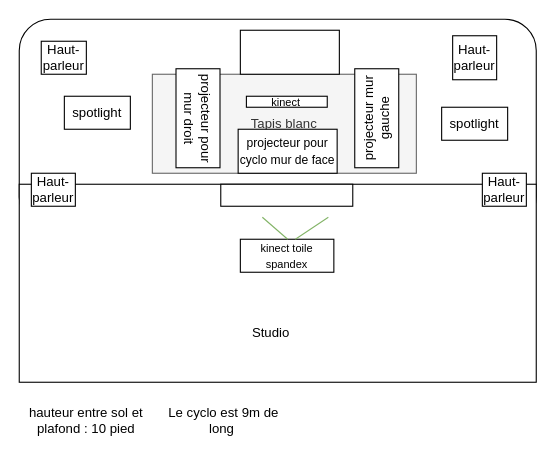
Some shapes in this 556 by 457 pixel diagram are drawn without their labels. The shapes that lost their labels are listed below. From the top down, each one's centre as x and y in pixels, then its label:
At (x=289, y=51): "projecteur pour toile spandex".
At (x=286, y=194): "toile spandex et pole".
